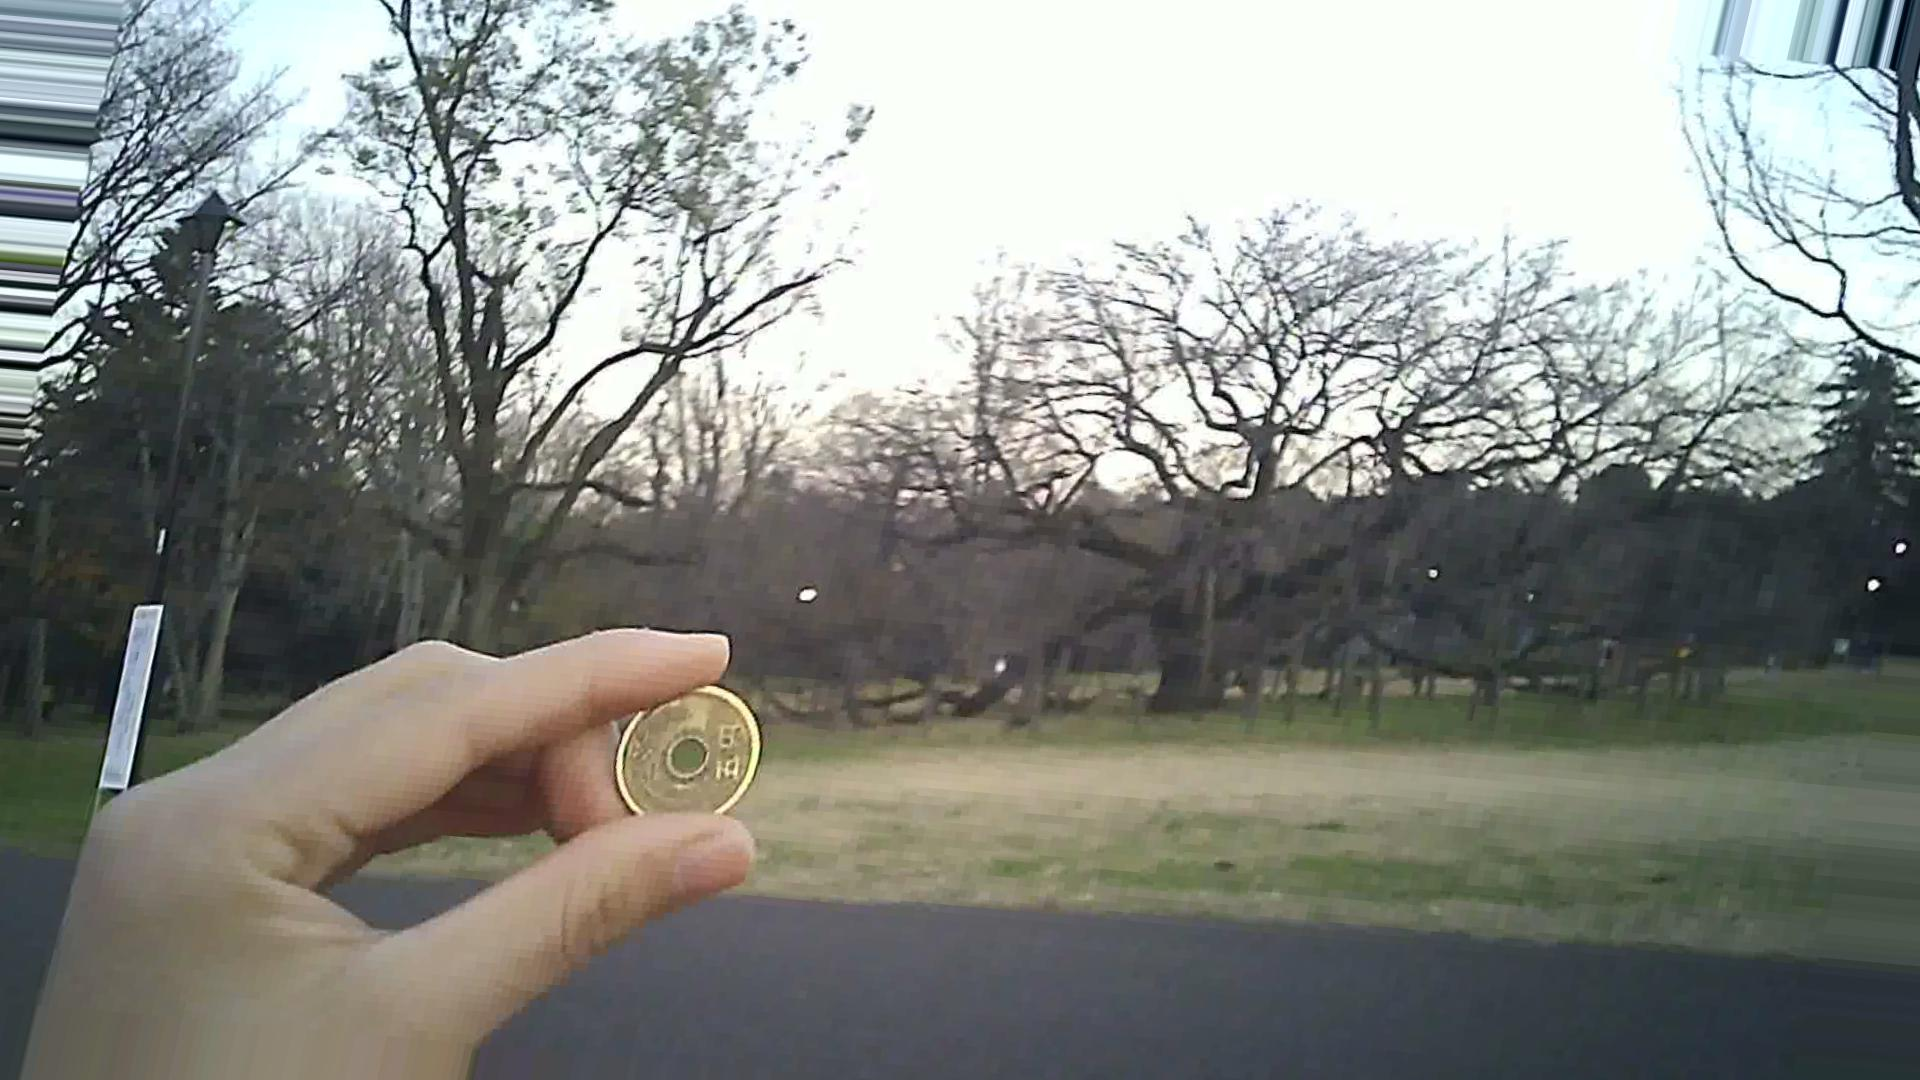5 Yen: (612, 666, 775, 880)
